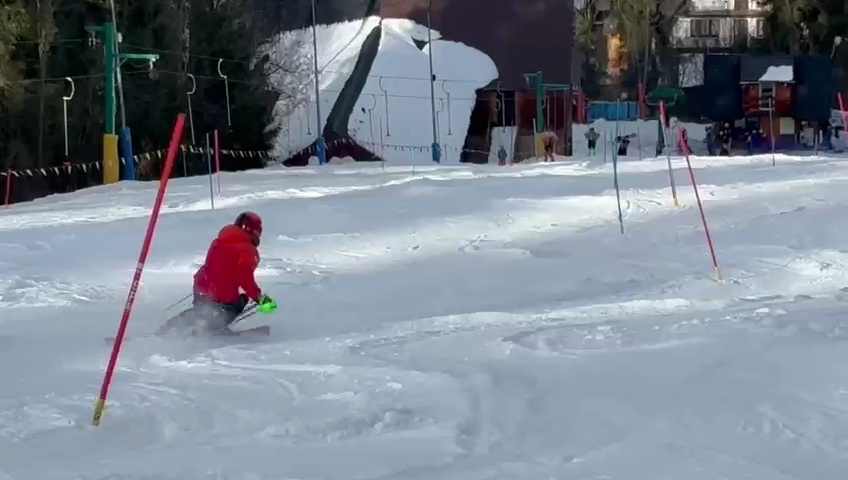gate: (91, 109, 199, 434), (673, 122, 730, 286), (605, 130, 629, 236), (657, 102, 675, 208), (200, 127, 221, 211), (763, 93, 782, 177), (208, 128, 225, 207), (832, 88, 848, 145)
